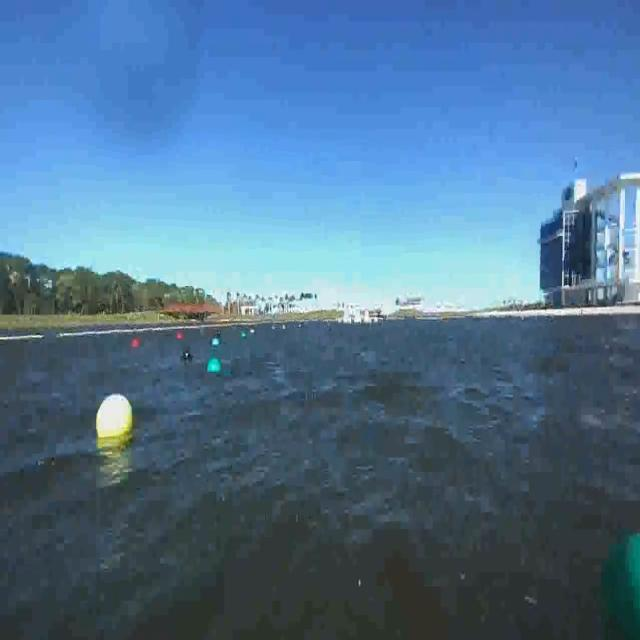black-buoy: (182, 352, 192, 362)
green-buoy: (625, 531, 640, 596), (208, 358, 222, 372)
yellow-buoy: (96, 394, 133, 440)
